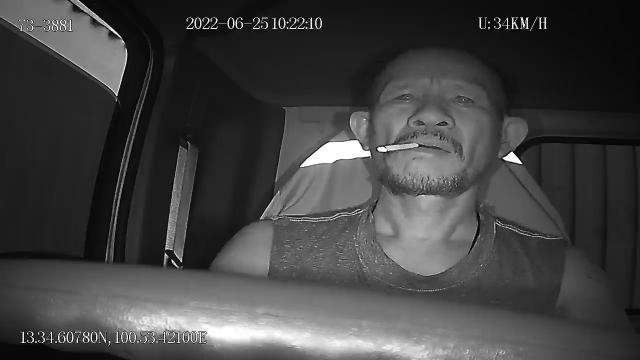SafeDriving: (384, 84, 424, 111), (443, 85, 482, 112)
Smoking: (378, 142, 418, 154)
